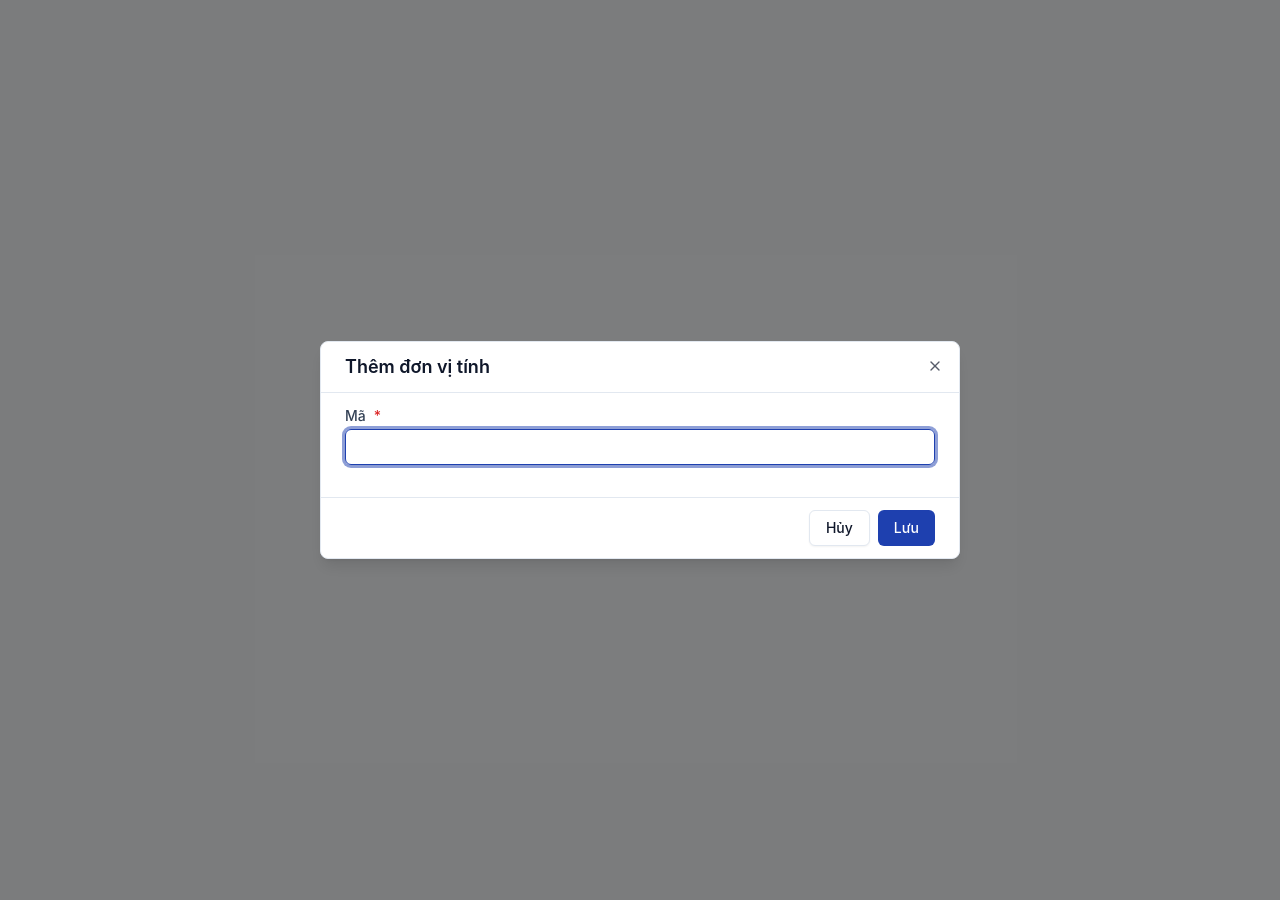
Test: FormDialog › lỗi theo trường từ backend hiện dưới ô nhập, không hiện toast
The width and height of the screenshot is (1280, 900).
In the field labelled "Mã *": coordinates (640, 447) [345, 429, 935, 465], type "KG"
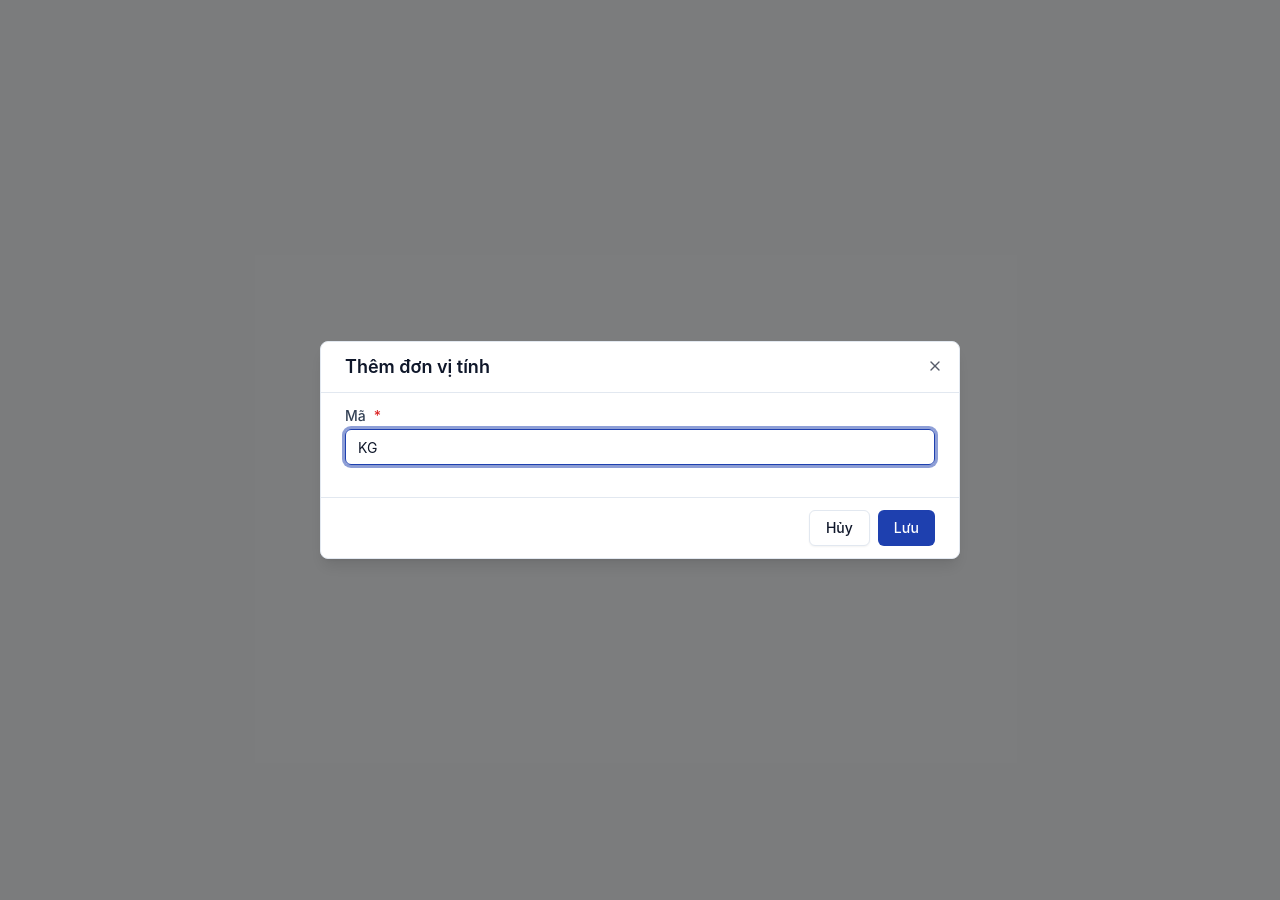
Click the button "Lưu": coordinates (906, 528) [878, 510, 935, 546]
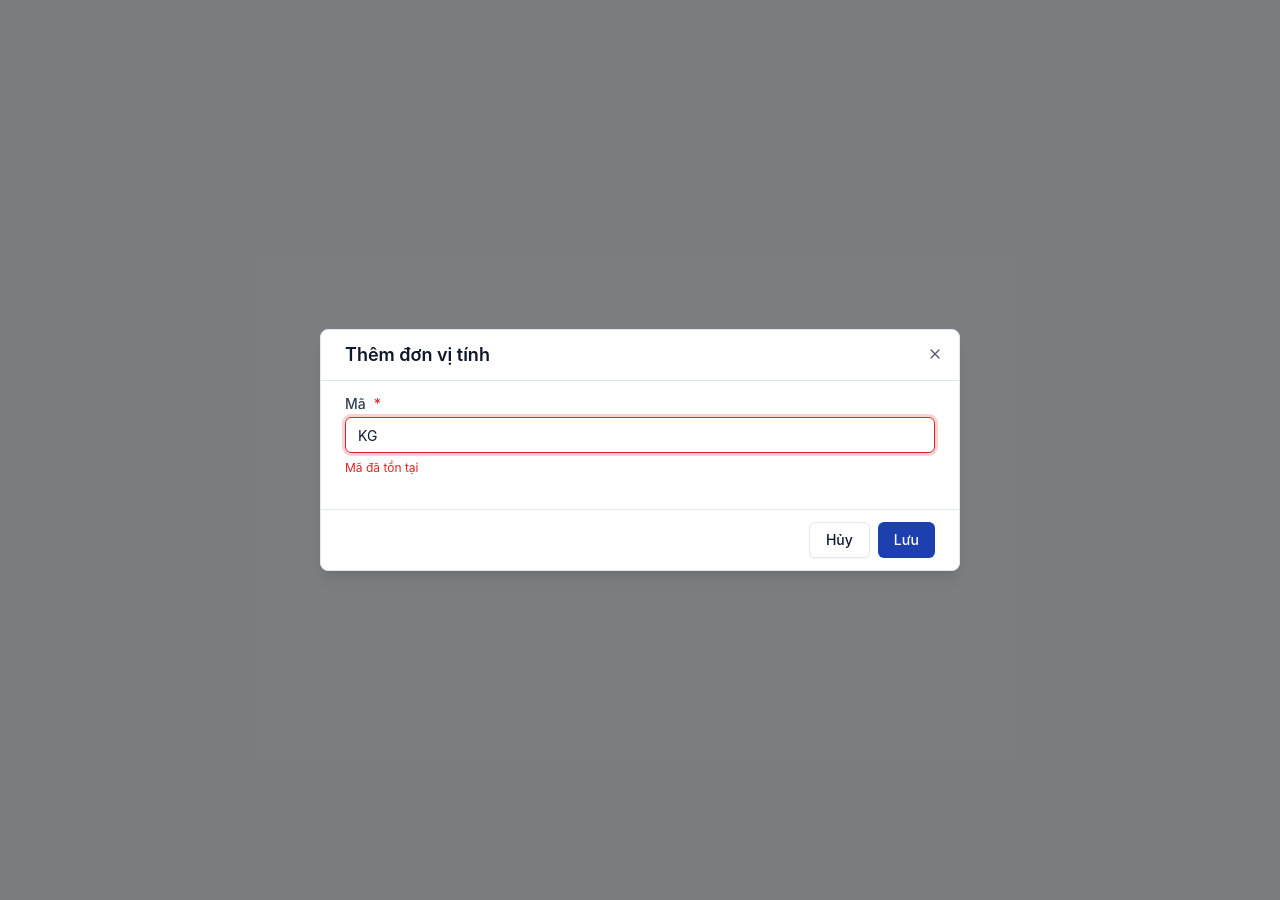
Expected: the text "Mã đã tồn tại" is shown, [345, 460, 418, 475]
